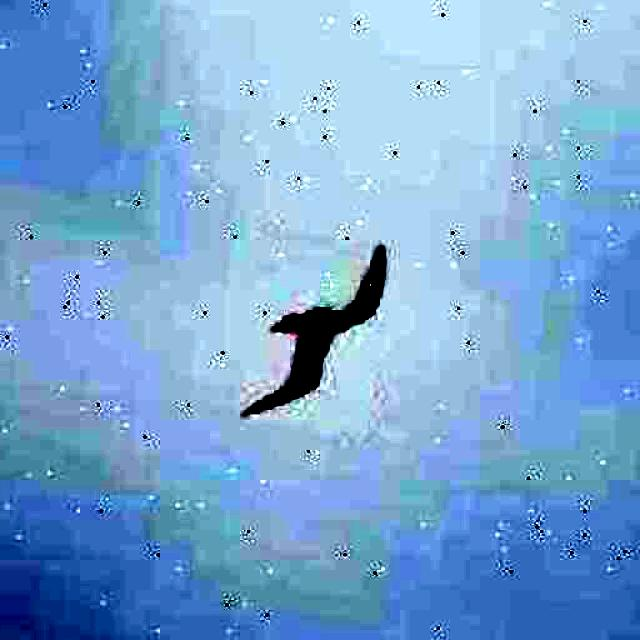airplane: (238, 229, 390, 432)
